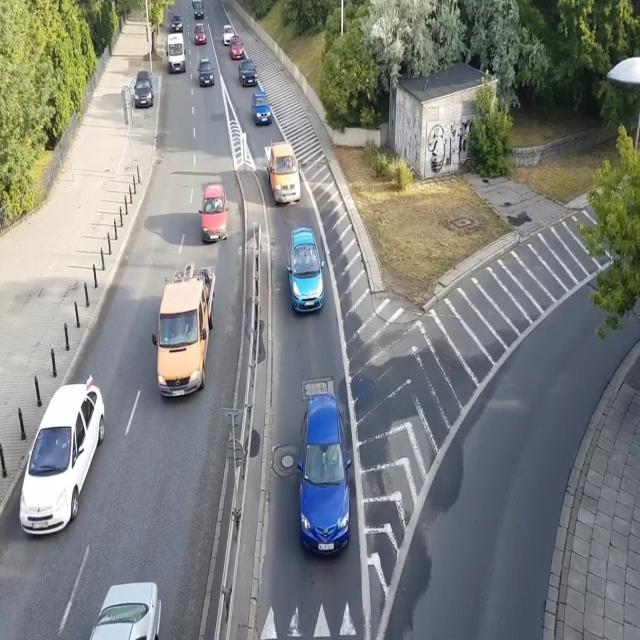car: (19, 380, 106, 535), (294, 392, 352, 555), (85, 579, 162, 640), (286, 226, 325, 316), (198, 183, 228, 243), (132, 70, 155, 108), (250, 90, 272, 128), (236, 59, 258, 89), (197, 59, 215, 87), (228, 35, 244, 61), (221, 21, 235, 46), (195, 24, 208, 46), (170, 13, 184, 33), (192, 0, 204, 19), (190, 0, 200, 4)
truck: (149, 260, 216, 409), (264, 136, 303, 204)
van: (164, 31, 188, 74)
